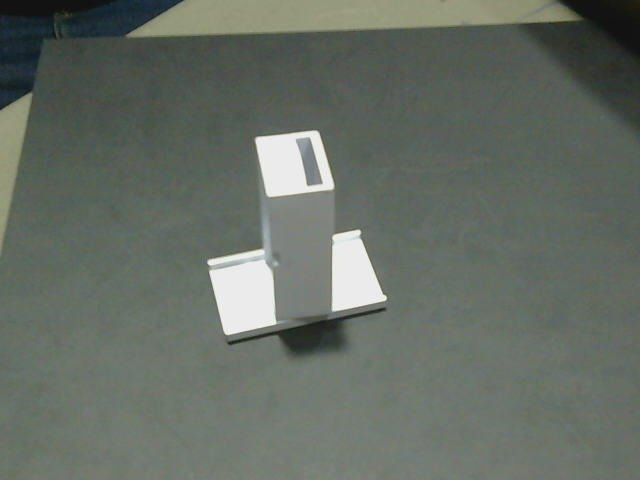enclosure_defective: (208, 248, 276, 335), (256, 131, 334, 197), (332, 230, 386, 311)
